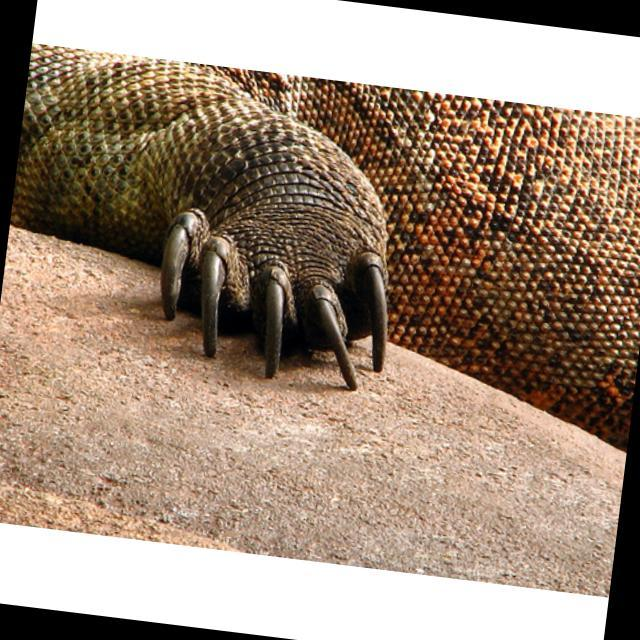KomodoDragon: (0, 44, 640, 424)
